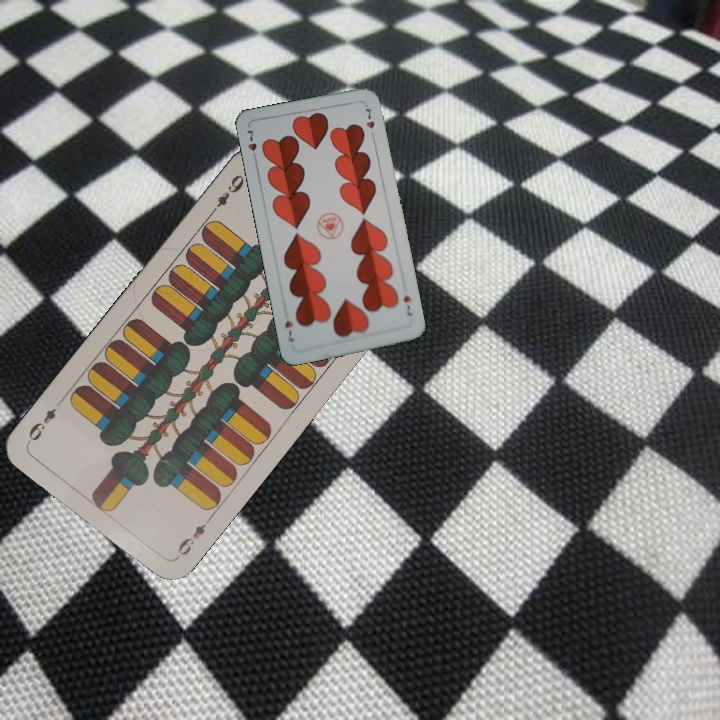E9: (205, 168, 248, 218), (171, 513, 214, 562)
H7: (243, 126, 259, 164), (399, 292, 414, 318)
